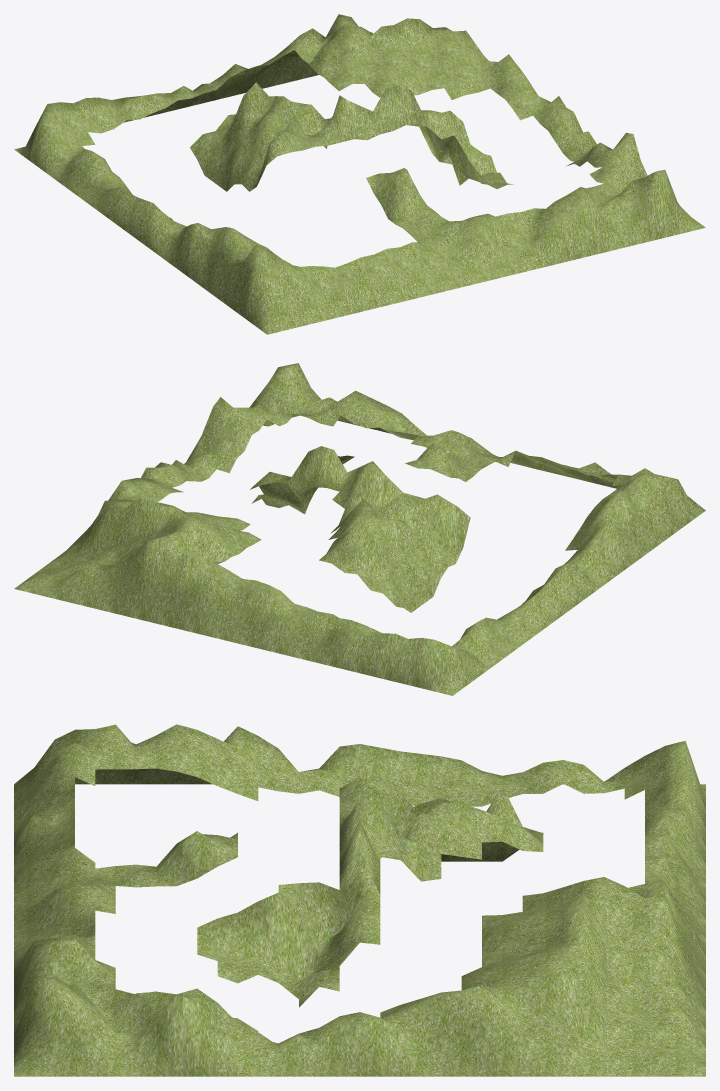
File: ground02.obj
3 renders of one model, top to bottom at view 1: azimuth 30°, elevation 25°; view 2: azimuth 150°, elevation 25°; view 3: azimuth 270°, elevation 25°, orthographic. The views are drawn at different scales.
Visible parts, largest first — view 1: ground; view 2: ground; view 3: ground.
Part boxes in pixels (bbox=[...]): ground: bbox=[14, 14, 705, 334]; ground: bbox=[14, 363, 705, 695]; ground: bbox=[14, 724, 705, 1076].
Bounding box in the file's own units: 680 × 140 × 680.
1 material, 1 textured.
